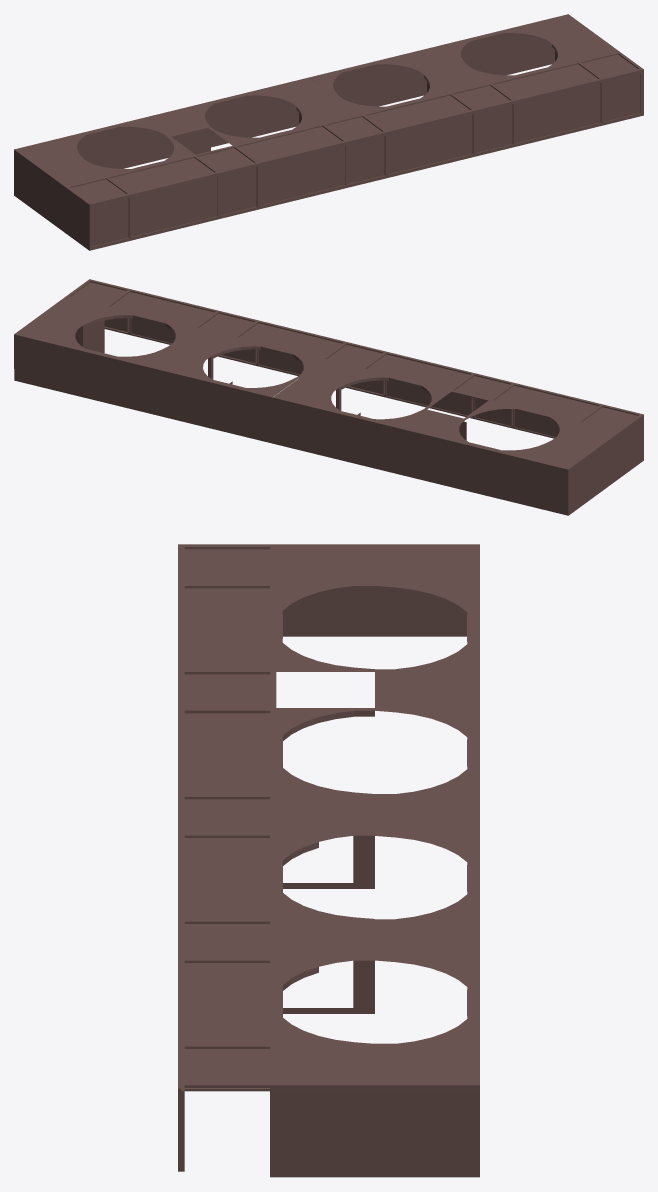
The model's file is Silo_Yellow_Base.fbx.
3 renders of one model, top to bottom at view 1: azimuth 30°, elevation 25°; view 2: azimuth 150°, elevation 25°; view 3: azimuth 270°, elevation 25°, orthographic. The views are drawn at different scales.
Parts seen in each view (by area): view 1: Platform.000; view 2: Platform.000; view 3: Platform.000.
Part boxes in pixels (left/top/right/bottom): Platform.000: left=14, top=14, right=643, bottom=250; Platform.000: left=14, top=279, right=643, bottom=515; Platform.000: left=178, top=544, right=479, bottom=1177.
Bounding box in the file's own units: 3900 × 310 × 920.
